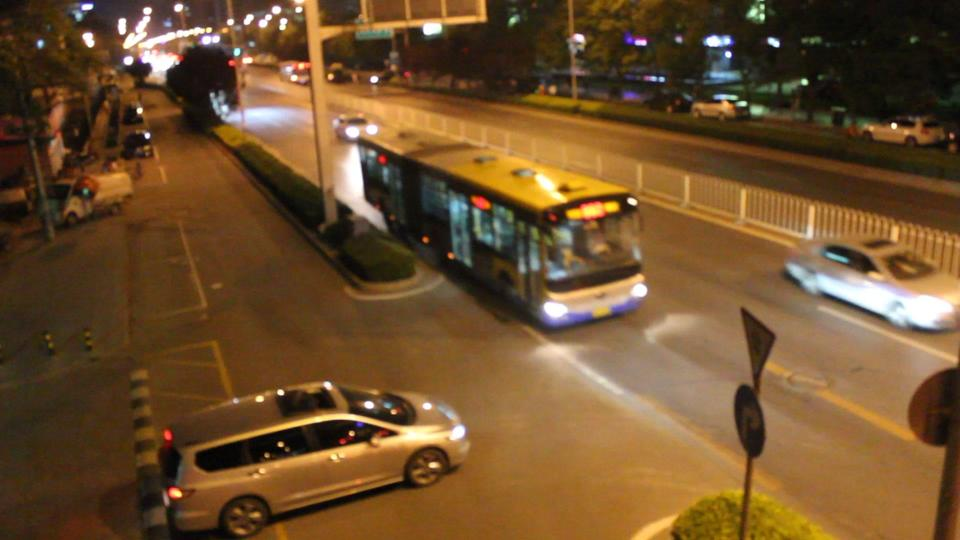bus: (357, 128, 647, 329)
car: (155, 380, 470, 540), (782, 235, 960, 333), (861, 114, 946, 149), (690, 94, 750, 122), (333, 111, 373, 141), (122, 128, 155, 161)
truck: (36, 173, 134, 228)
